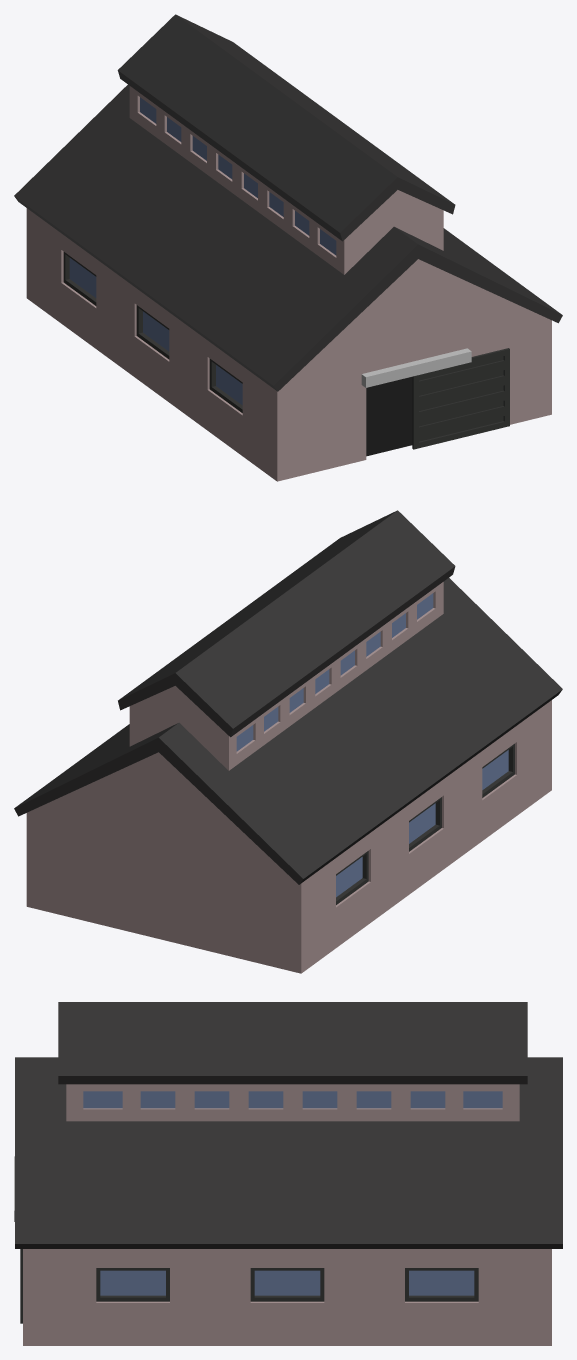
Rendered from FactoryBuilding_01.fbx.
3 views of the same model, one above another, from view 1: azimuth 30°, elevation 25°; view 2: azimuth 150°, elevation 25°; view 3: azimuth 270°, elevation 25° (orthographic). The views are drawn at different scales.
Parts seen in each view (by area): view 1: FactoryBuilding_01; view 2: FactoryBuilding_01; view 3: FactoryBuilding_01.
Part boxes in pixels (left/top/right/bottom): FactoryBuilding_01: left=14, top=14, right=562, bottom=481; FactoryBuilding_01: left=14, top=510, right=562, bottom=973; FactoryBuilding_01: left=14, top=1002, right=562, bottom=1345.
Size of the model in its own units: 13.89 by 11.87 by 21.61.
